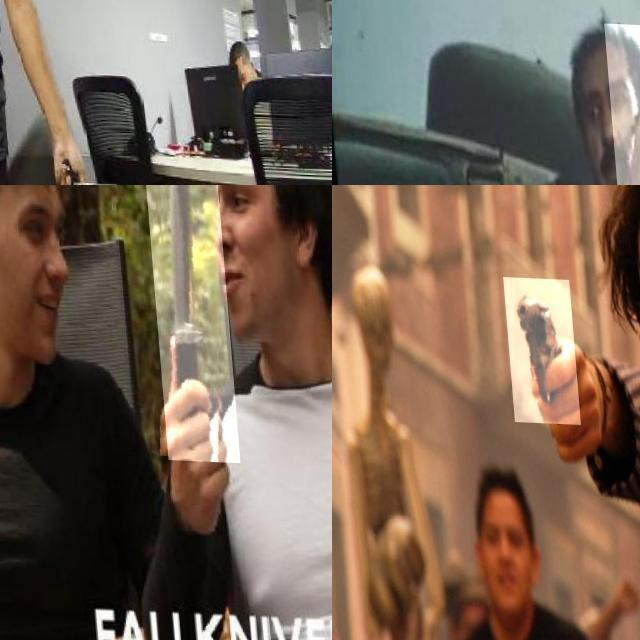-: (139, 185, 233, 459)
gun-knife-thesis - v11 Yolov5 augmented: (500, 274, 574, 422), (602, 21, 640, 185)
